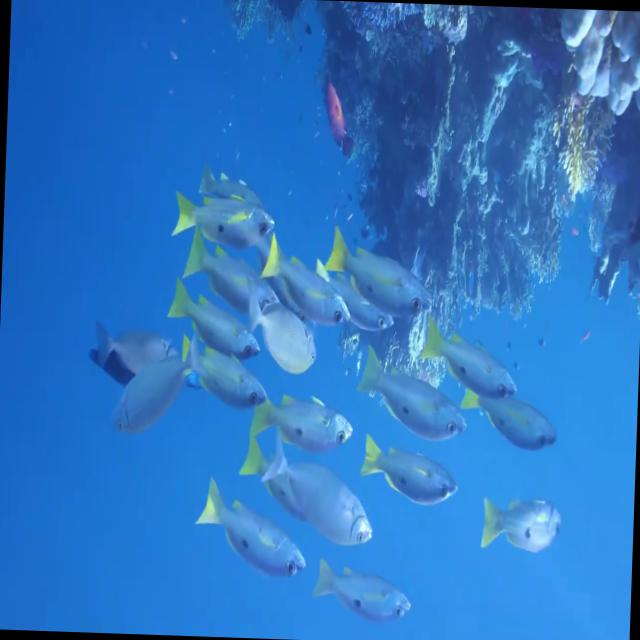fish: (266, 438, 379, 542), (326, 225, 436, 317), (199, 488, 308, 579), (360, 351, 466, 441), (108, 330, 194, 440), (262, 237, 353, 331), (419, 322, 518, 404), (174, 180, 281, 252), (457, 377, 560, 451), (184, 232, 274, 316), (168, 282, 259, 364), (250, 383, 352, 455), (358, 434, 458, 506), (241, 282, 320, 370), (178, 344, 270, 412), (314, 558, 414, 620), (481, 498, 563, 554)
